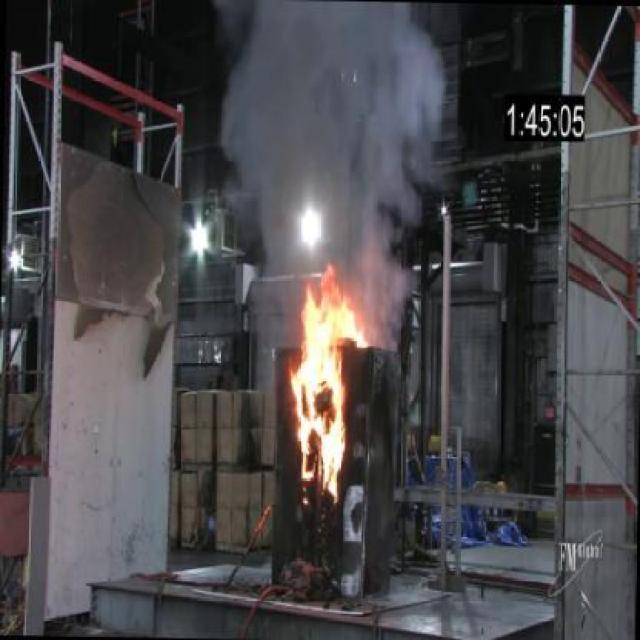fire: (213, 2, 450, 258)
smoke: (290, 264, 372, 500)
